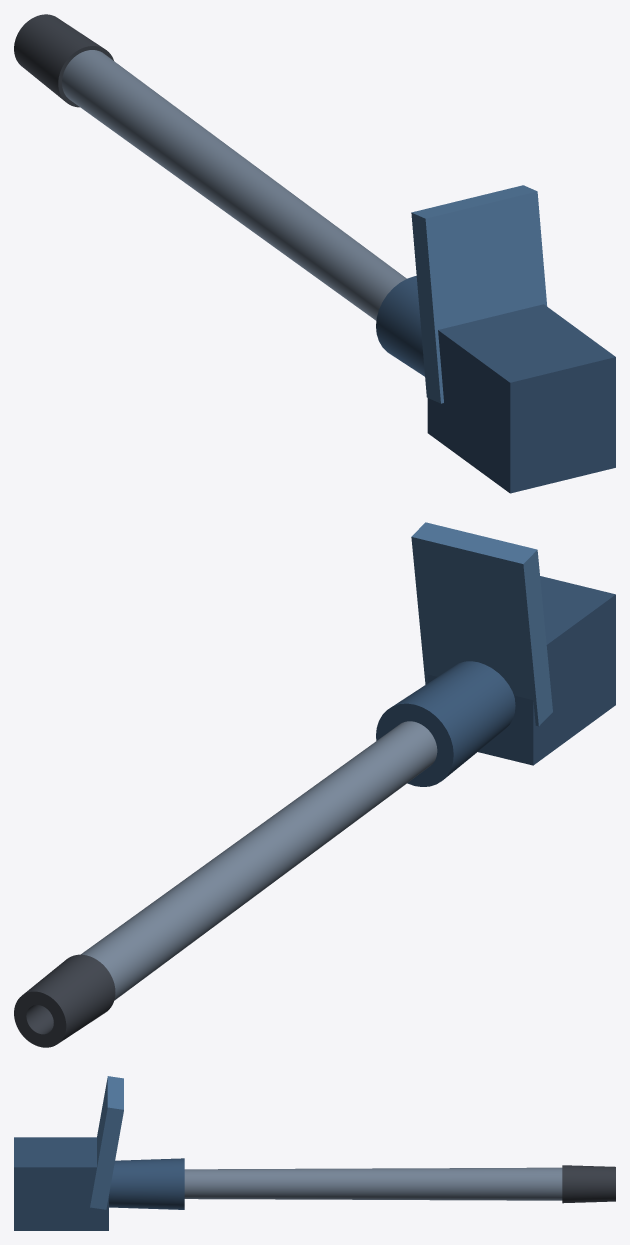
Rendered from Origin_gun.glb.
The picture shows the model from 3 angles, top to bottom: view 1: azimuth 30°, elevation 25°; view 2: azimuth 150°, elevation 25°; view 3: azimuth 270°, elevation 25°; orthographic projection. The views are drawn at different scales.
Parts seen in each view (by area): view 1: Origin_Gun; view 2: Origin_Gun; view 3: Origin_Gun.
Part boxes in pixels (<box>): Origin_Gun: <box>14,14,615,493</box>; Origin_Gun: <box>14,522,615,1047</box>; Origin_Gun: <box>14,1076,615,1230</box>.
Bounding box in the file's own units: 0.36 × 0.6629 × 2.91.
